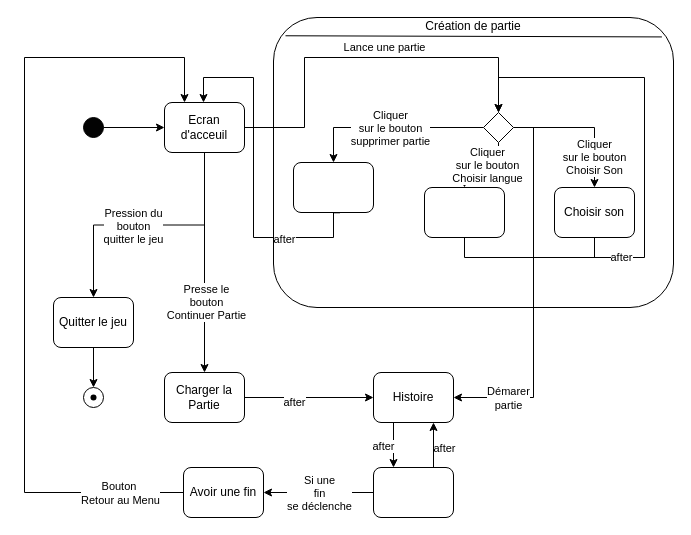
Some shapes in this 691 by 535 pixel diagram are drawn without their labels. The box of each missing label's shape, as (x1, y1, x2, y2) in pixels:
Choisir langue: (424, 186, 504, 238)
Faire un choix: (372, 466, 454, 518)
Supprimer la partie: (292, 162, 374, 212)
